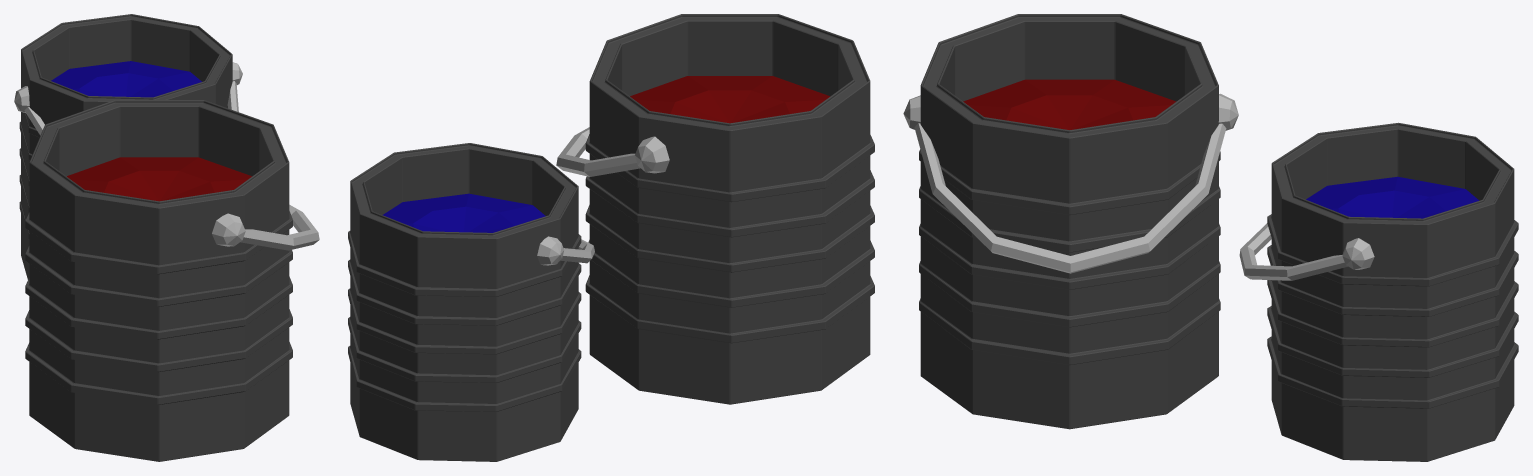
File: pots_peinture_02.FBX
The picture shows the model from 3 angles, left to right: view 1: azimuth 30°, elevation 25°; view 2: azimuth 150°, elevation 25°; view 3: azimuth 270°, elevation 25°; orthographic projection. The views are drawn at different scales.
Visible parts, largest first — view 1: Cylinder122; view 2: Cylinder122; view 3: Cylinder122.
Part boxes in pixels (bbox=[...]): Cylinder122: bbox=[14, 14, 319, 461]; Cylinder122: bbox=[348, 14, 874, 461]; Cylinder122: bbox=[903, 14, 1518, 461].
Bounding box in the file's own units: 36.88 × 53.78 × 28.14.
